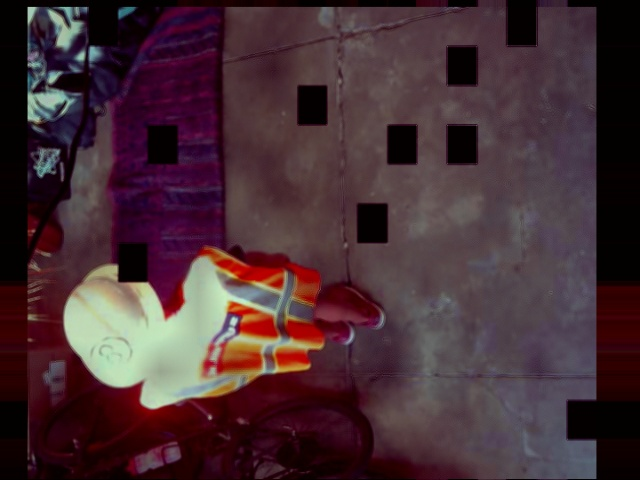eight: (91, 336, 132, 369)
